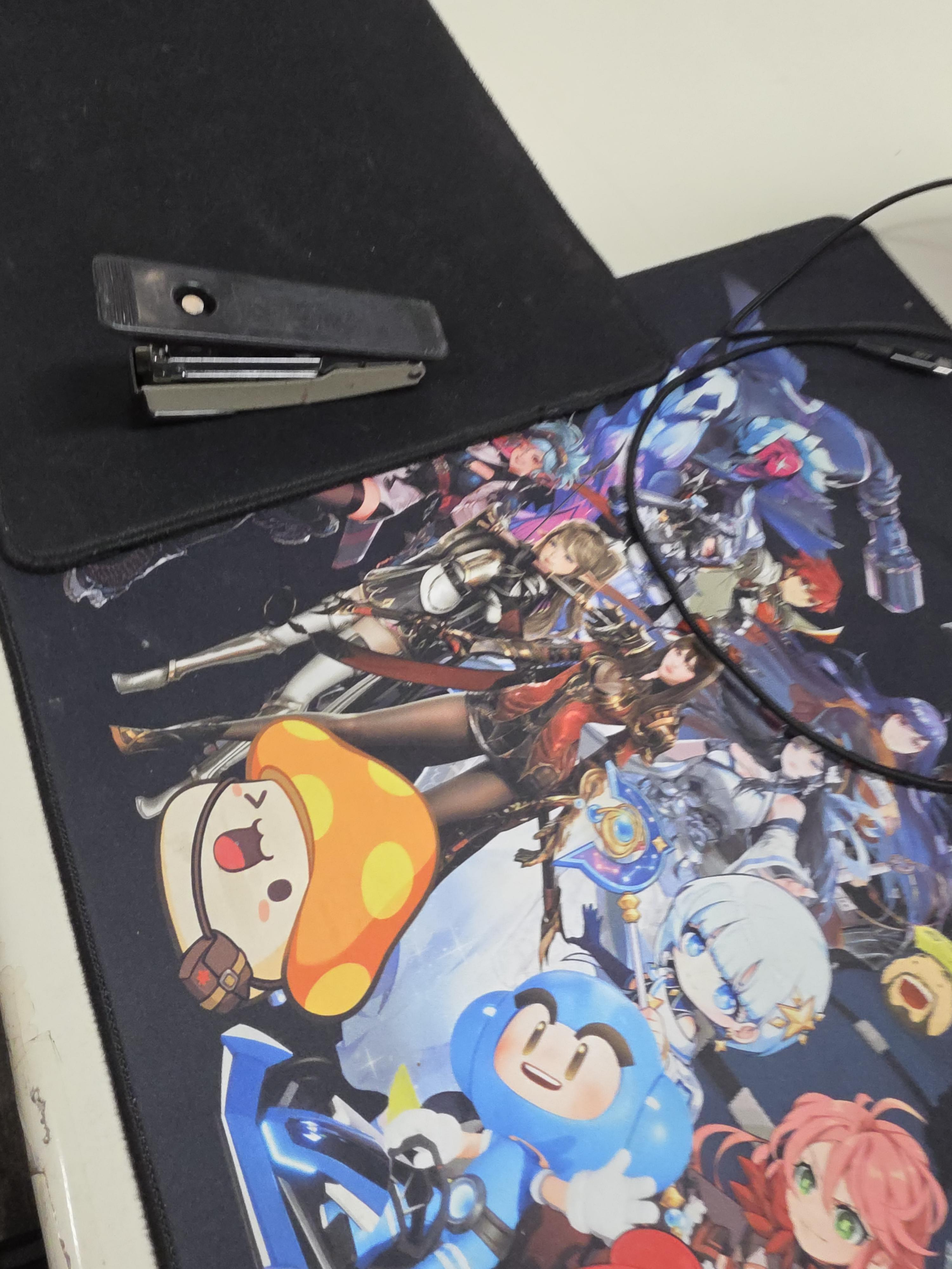stapler: (92, 253, 449, 421)
